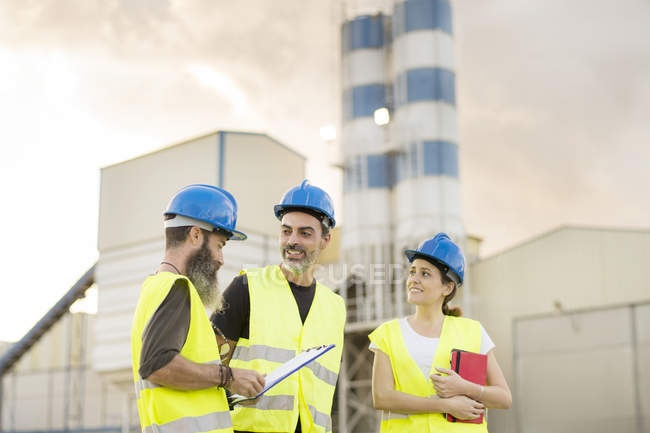helmet: (166, 184, 249, 245), (403, 232, 469, 286), (276, 182, 339, 226)
person with full safety: (231, 182, 345, 433), (370, 232, 496, 433), (135, 185, 237, 433)
safety vest: (238, 261, 346, 433), (130, 272, 235, 433), (369, 312, 492, 433)
